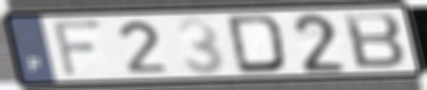2: (291, 10, 350, 75), (116, 20, 171, 75)
3: (175, 14, 227, 76)
B: (340, 11, 408, 71)
D: (224, 12, 289, 75)
F: (50, 18, 105, 79)
